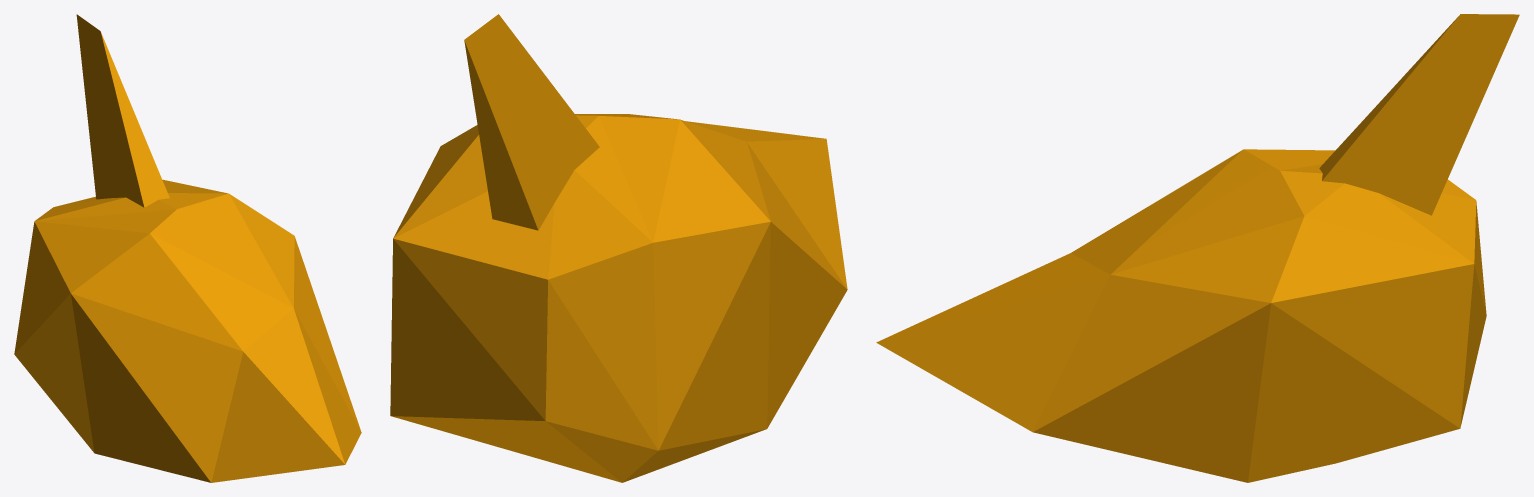
File: SnakeHead.fbx
The picture shows the model from 3 angles, left to right: view 1: azimuth 30°, elevation 25°; view 2: azimuth 150°, elevation 25°; view 3: azimuth 270°, elevation 25°; orthographic projection. The views are drawn at different scales.
Visible parts, largest first — view 1: Cube_1; view 2: Cube_1; view 3: Cube_1.
Boxes of the visible parts, <box> form: Cube_1: <box>14,14,361,482</box>; Cube_1: <box>390,14,847,482</box>; Cube_1: <box>876,14,1519,482</box>.
Bounding box in the file's own units: 10.3 × 15.24 × 20.49.
